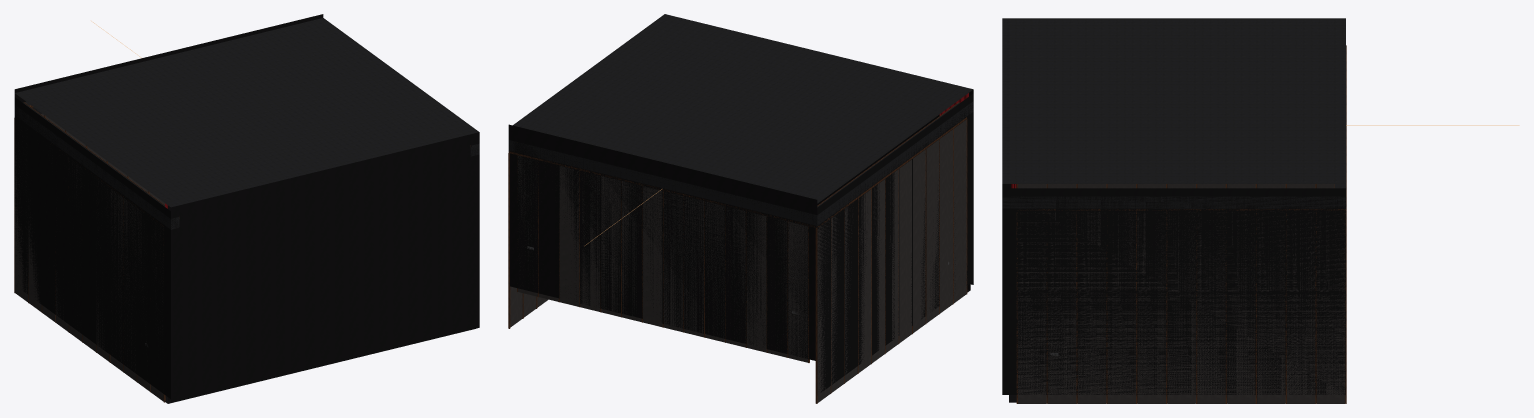
File: Theater.fbx
3 views of the same model, side by side, from view 1: azimuth 30°, elevation 25°; view 2: azimuth 150°, elevation 25°; view 3: azimuth 270°, elevation 25° (orthographic). The views are drawn at different scales.
Parts seen in each view (by area): view 1: Theater_Velvet_Room, Theater_Ceiling_Room, Theater_WallFabric_Room, Theater_Wood_Room; view 2: Theater_Velvet_Room, Theater_Ceiling_Room, Theater_WallFabric_Room, Theater_Wood_Room; view 3: Theater_Velvet_Room, Theater_Ceiling_Room, Theater_WallFabric_Room, Theater_Wood_Room.
Boxes of the visible parts, bbox=[...] form: Theater_Velvet_Room: bbox=[14, 14, 479, 403]; Theater_Ceiling_Room: bbox=[14, 18, 479, 229]; Theater_WallFabric_Room: bbox=[15, 113, 164, 401]; Theater_Wood_Room: bbox=[14, 102, 470, 402]; Theater_Velvet_Room: bbox=[508, 89, 973, 395]; Theater_Ceiling_Room: bbox=[508, 14, 973, 225]; Theater_WallFabric_Room: bbox=[510, 119, 966, 402]; Theater_Wood_Room: bbox=[508, 102, 967, 403]; Theater_Velvet_Room: bbox=[1002, 184, 1345, 402]; Theater_Ceiling_Room: bbox=[1002, 18, 1345, 208]; Theater_WallFabric_Room: bbox=[1018, 184, 1345, 403]; Theater_Wood_Room: bbox=[1016, 45, 1346, 403].
Bounding box in the file's own units: 21 × 13.25 × 27.7.
Materials: 10 (9 with a texture image).
